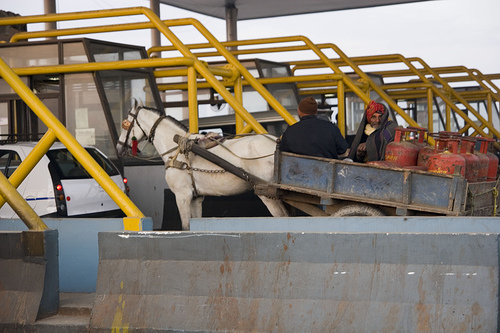horse: (113, 99, 291, 229)
